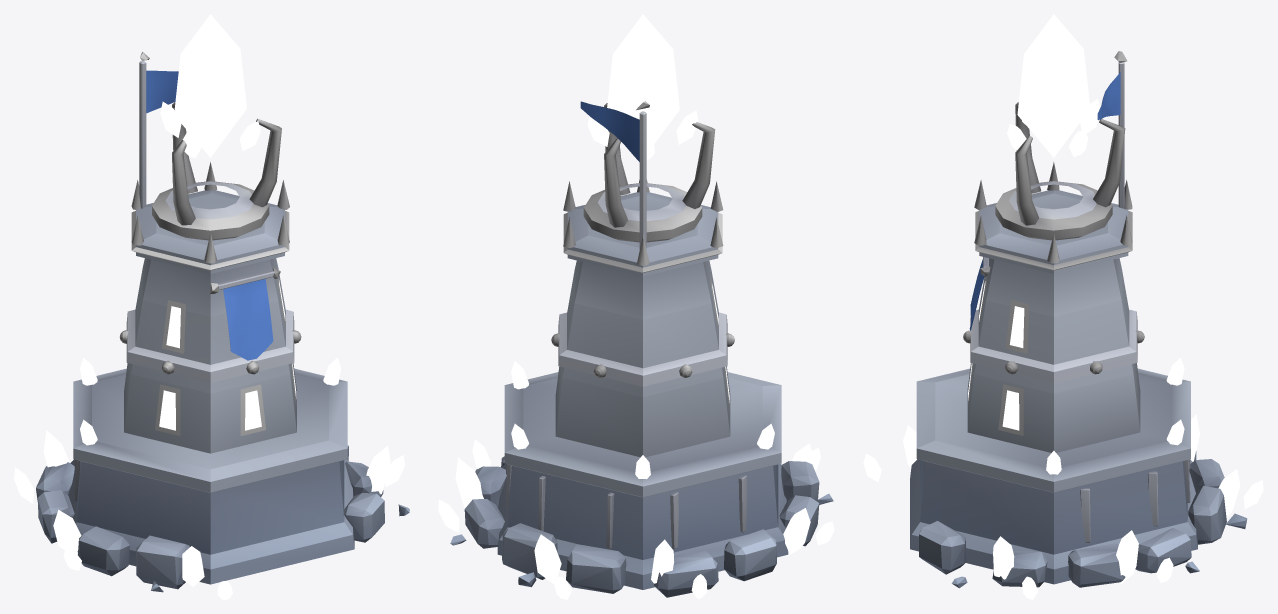
Rendered from frost_0_4.glb.
The picture shows the model from 3 angles, left to right: view 1: azimuth 30°, elevation 25°; view 2: azimuth 150°, elevation 25°; view 3: azimuth 270°, elevation 25°; orthographic projection.
Visible parts, largest first — view 1: Tower, Turret; view 2: Tower, Turret; view 3: Tower, Turret.
Boxes of the visible parts, x1,y1,x2,y2 form: Tower: [14, 52, 409, 599]; Turret: [152, 14, 281, 240]; Tower: [438, 101, 834, 599]; Turret: [583, 14, 715, 242]; Tower: [863, 51, 1263, 599]; Turret: [995, 14, 1125, 240].
Size of the model in its own units: 4.1 by 5.76 by 4.09.
